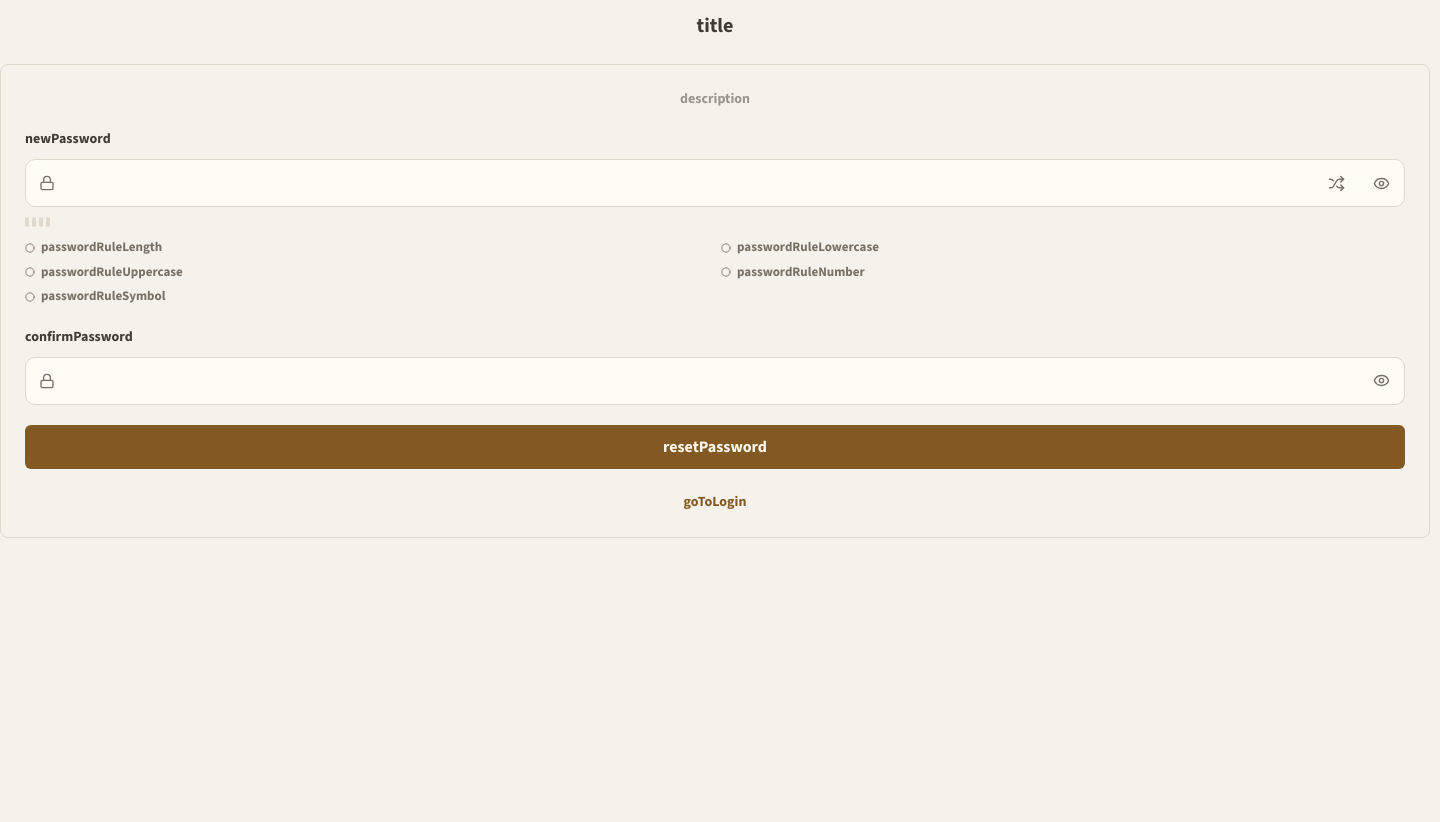
Test: reset password failure handling › validates password confirmation then accepts corrected fields
Expected: the text "description" is shown, [680, 89, 750, 109]
Click the button "resetPassword".
click(715, 446)  # box [25, 424, 1405, 468]
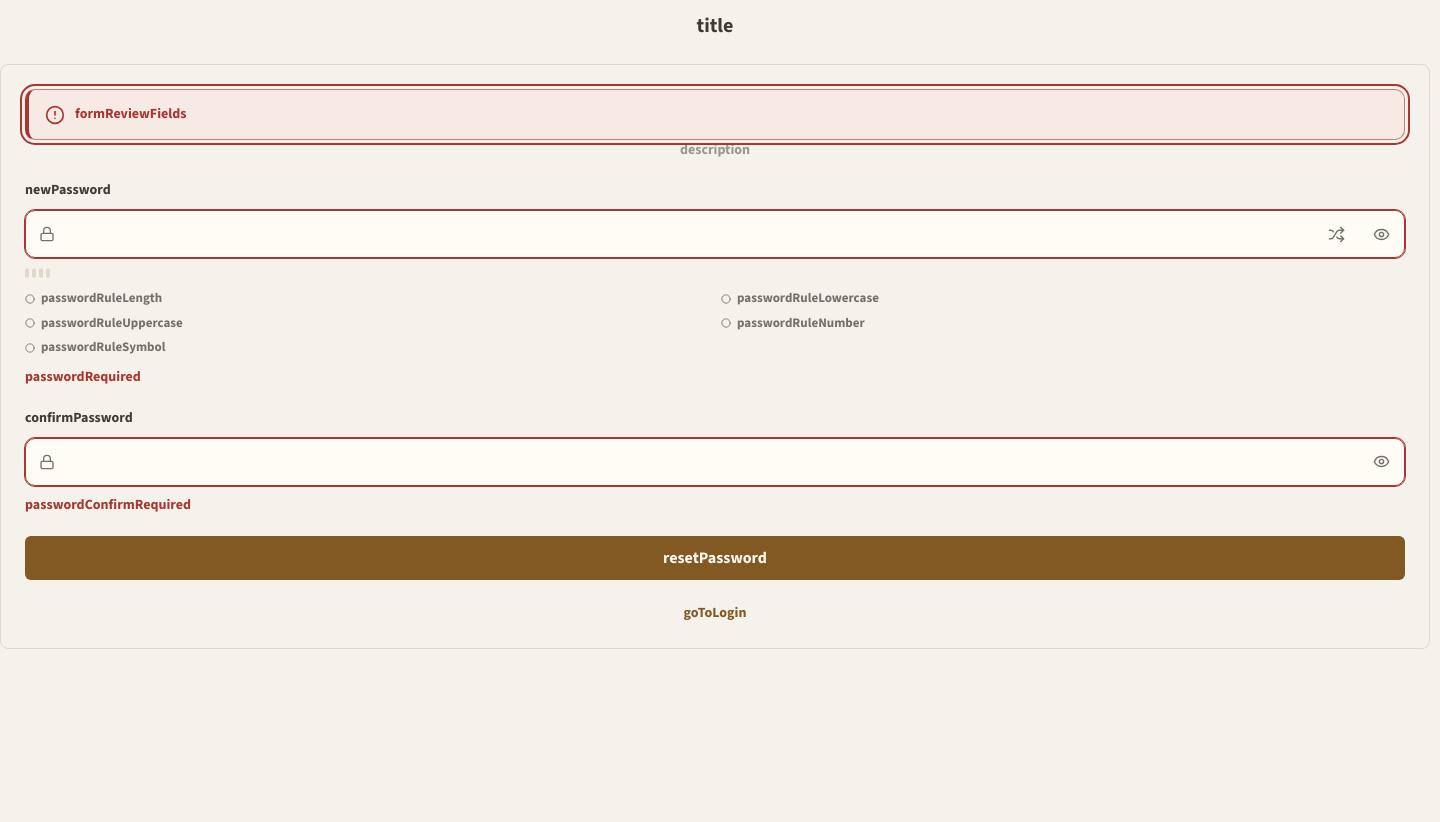
Expected: the text "formReviewFields" is shown, [75, 104, 186, 125]
Type "long-enough-password" into the password field labelled "newPassword".
click(684, 234); type("long-enough-password")  # box [55, 211, 1314, 257]
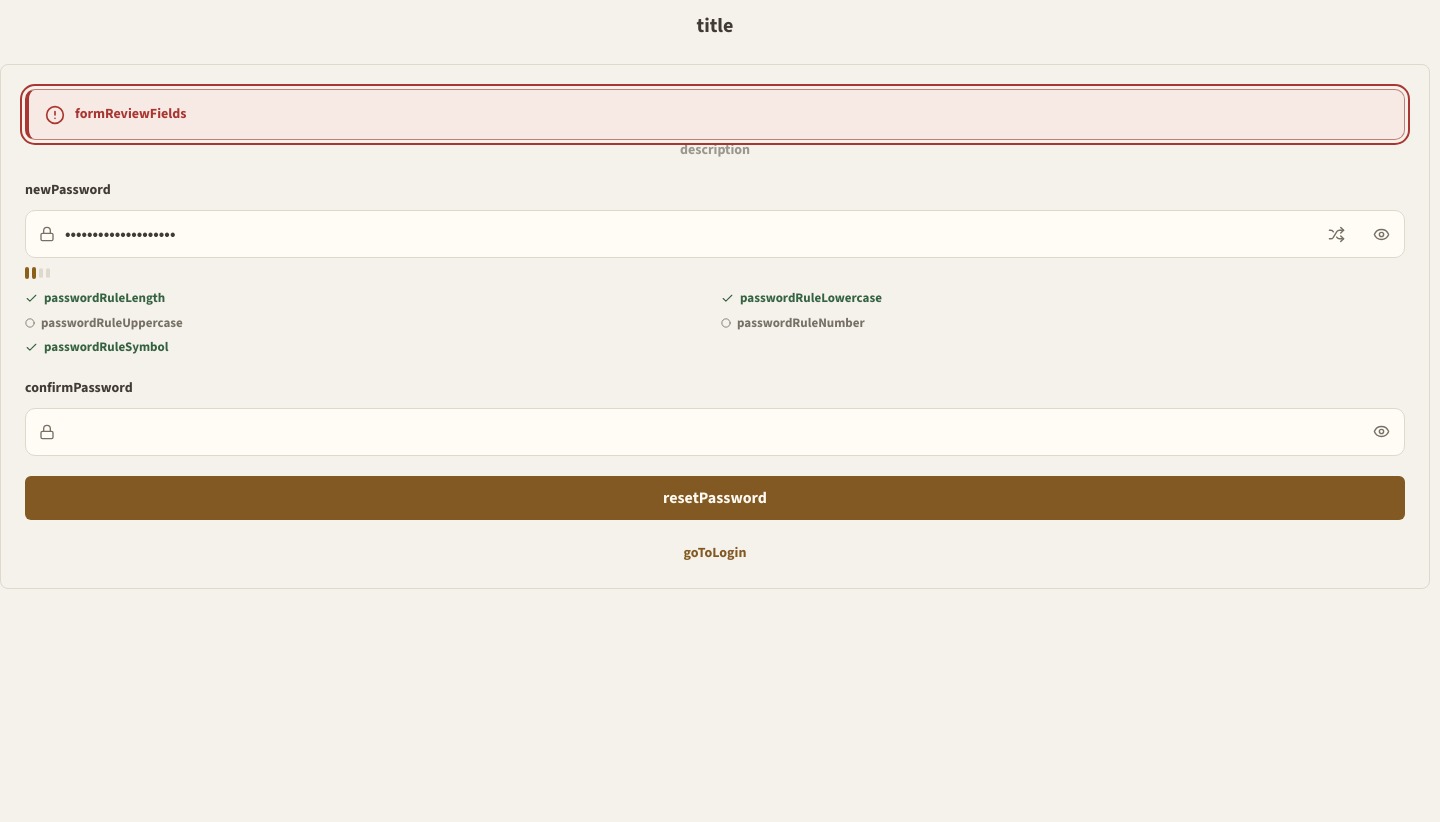
Type "different-password" into the password field labelled "confirmPassword".
click(707, 432); type("different-password")  # box [55, 408, 1359, 454]
Click the button "resetPassword".
click(715, 498)  # box [25, 476, 1405, 520]
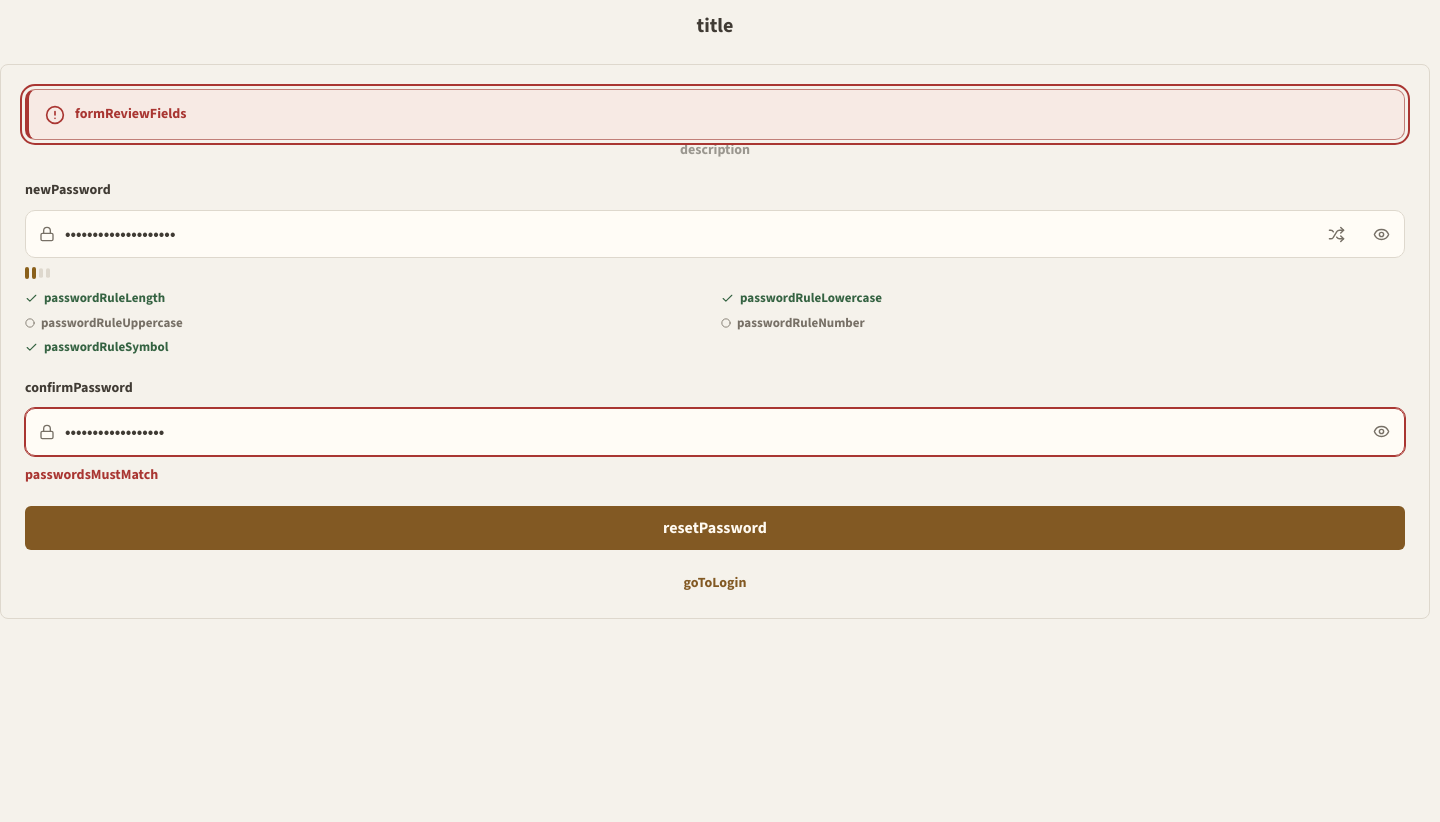
Type "strong-enough-password" into the password field labelled "newPassword".
click(684, 234); type("strong-enough-password")  # box [55, 211, 1314, 257]
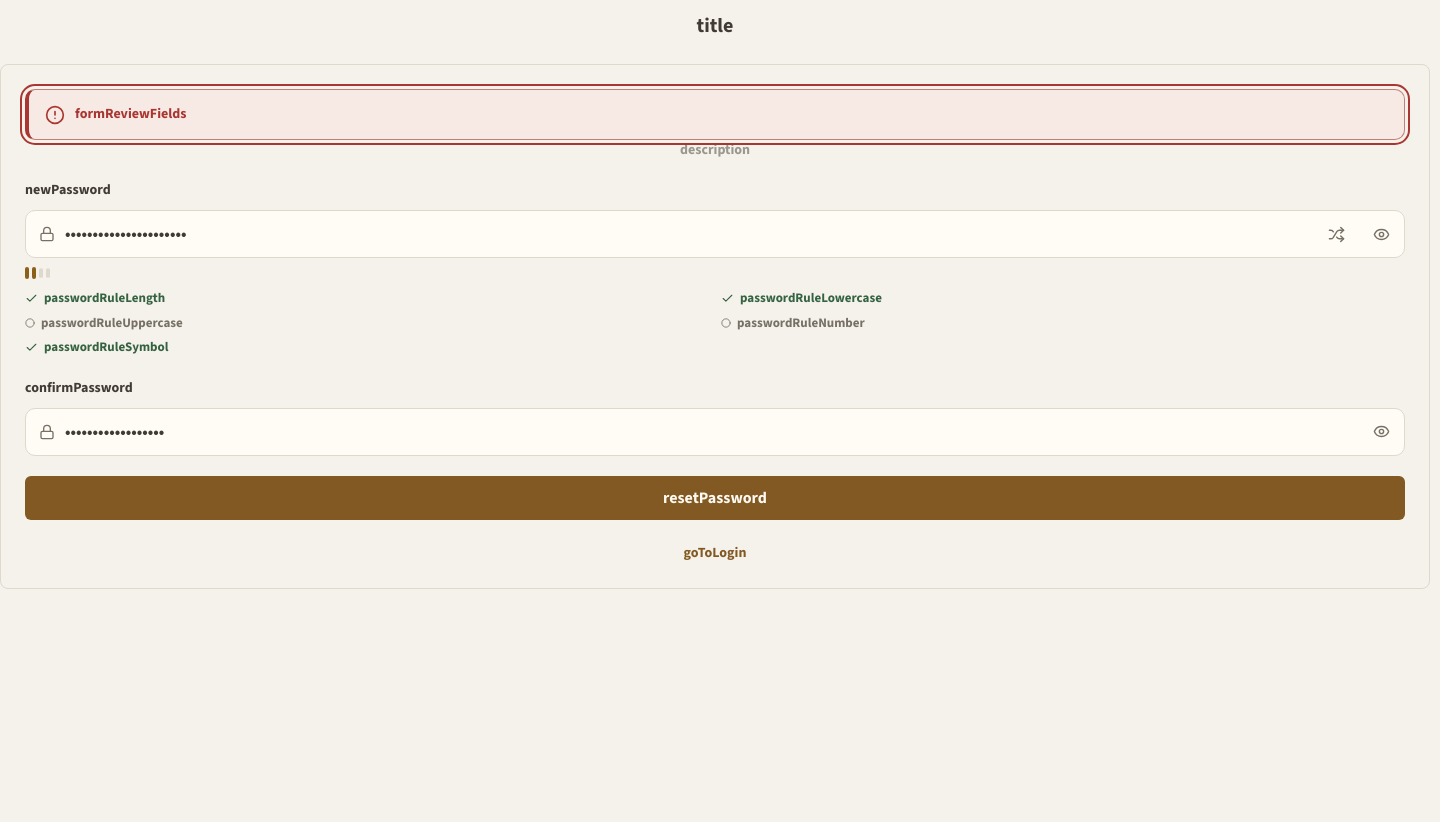
Type "strong-enough-password" into the password field labelled "confirmPassword".
click(707, 432); type("strong-enough-password")  # box [55, 408, 1359, 454]
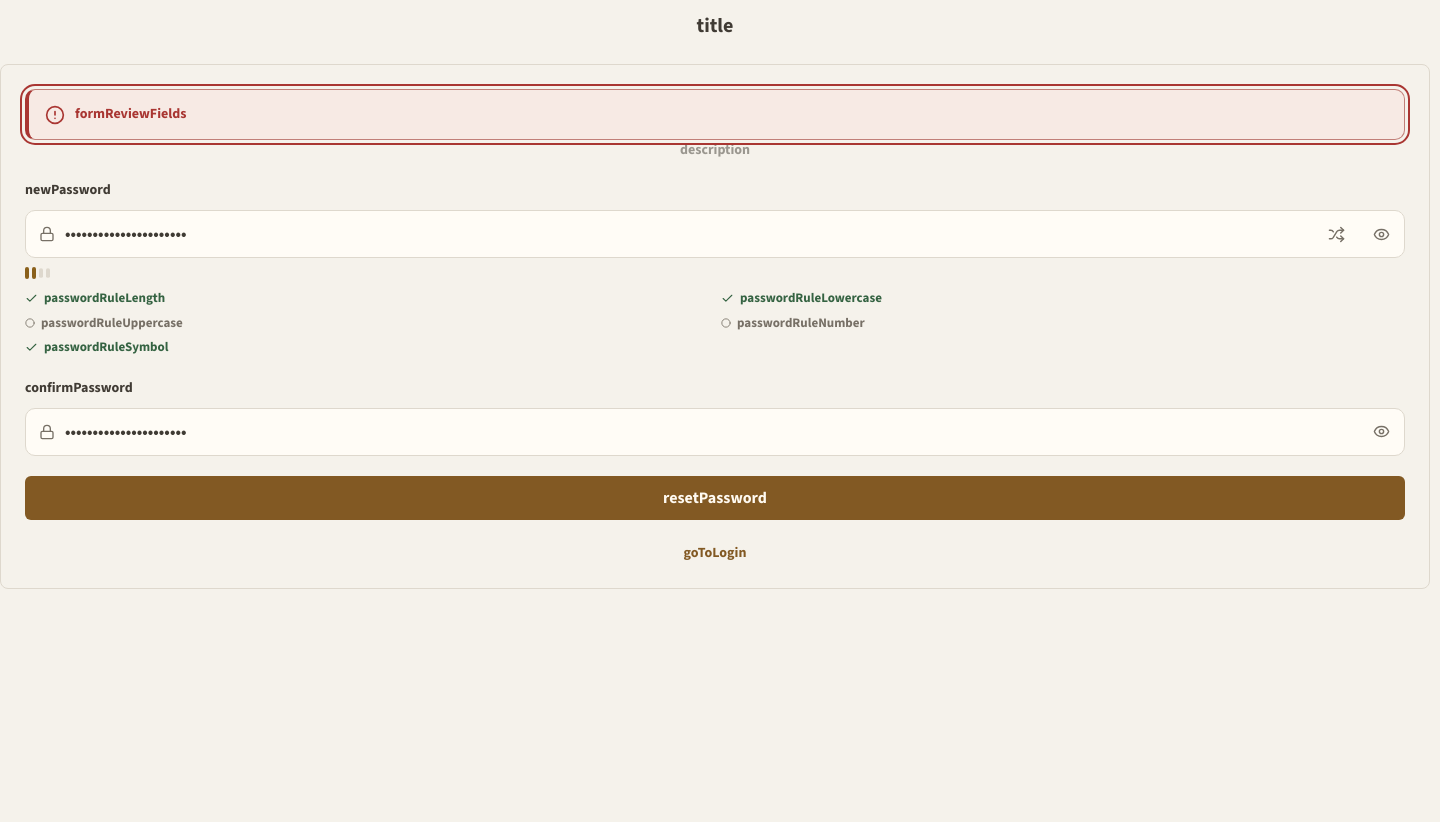
Click the button "resetPassword".
click(715, 498)  # box [25, 476, 1405, 520]
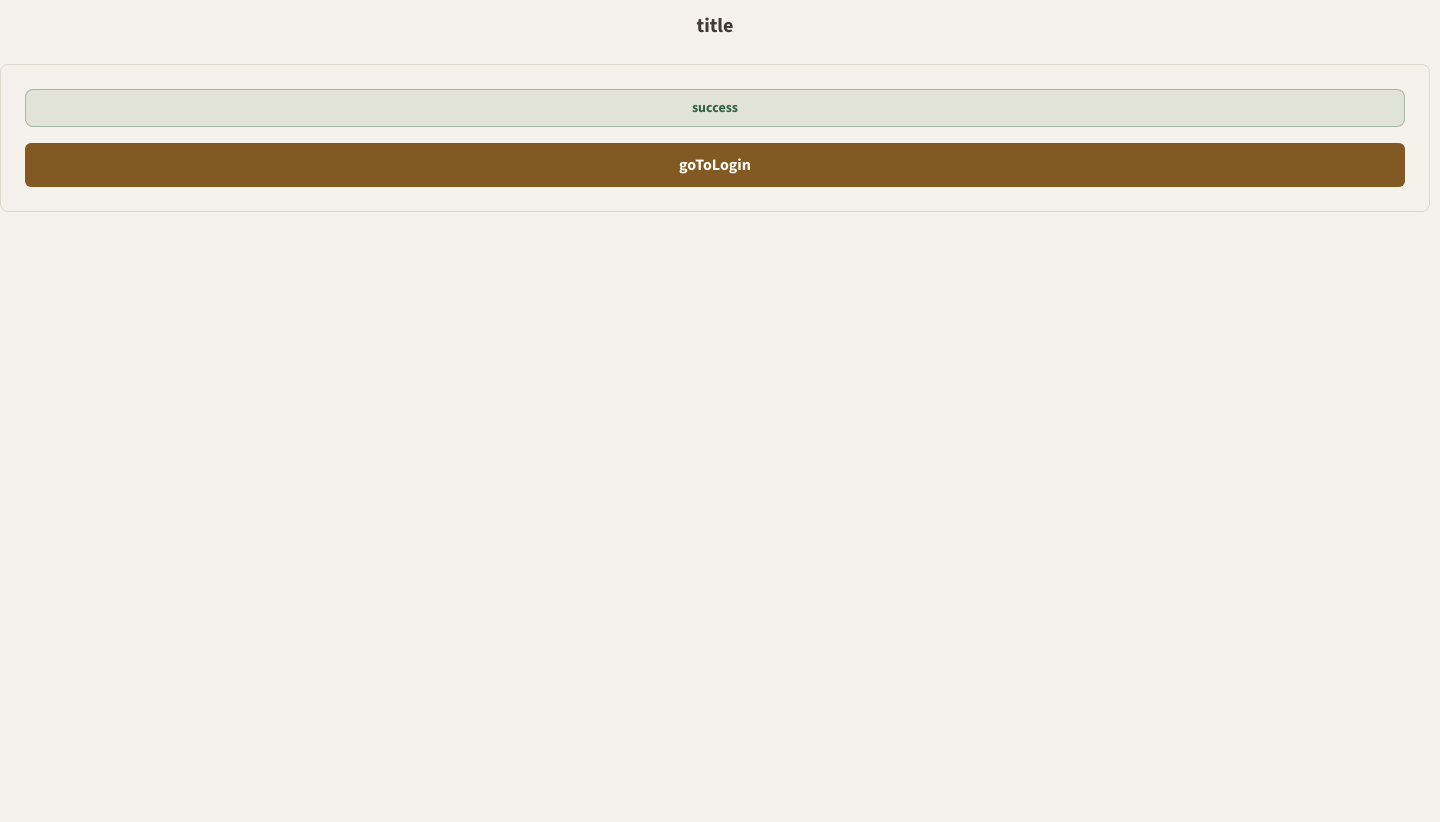
Expected: the text "success" is shown, [25, 89, 1405, 127]
